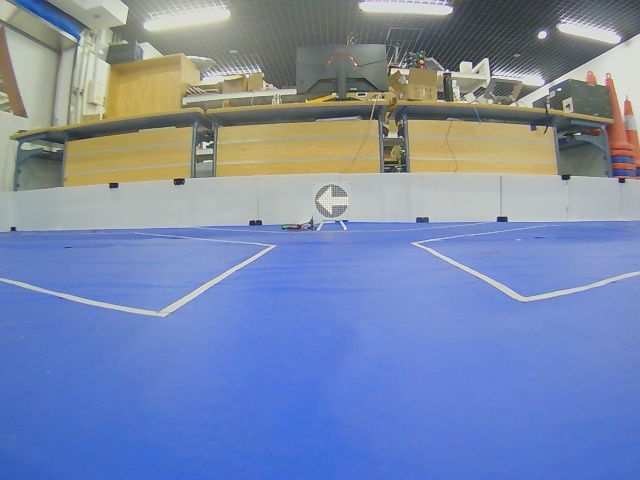left_yellow: (315, 184, 349, 219)
